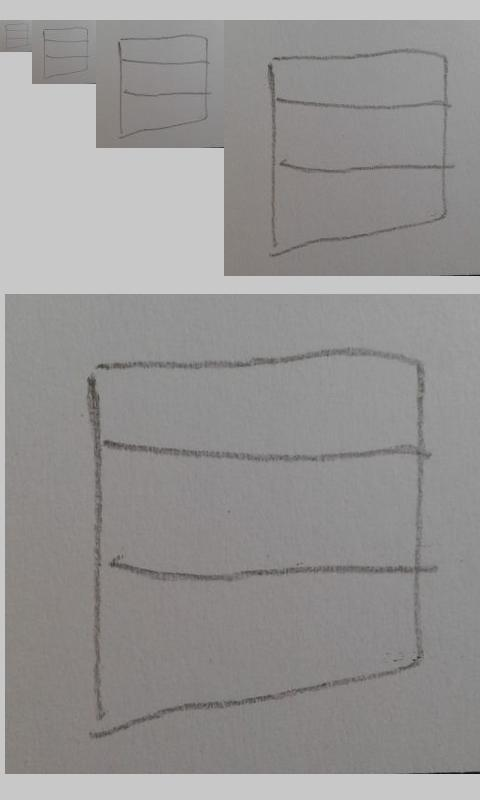list_view: (85, 346, 425, 735), (266, 47, 451, 253), (117, 33, 211, 138), (41, 26, 89, 79), (3, 22, 29, 49)
